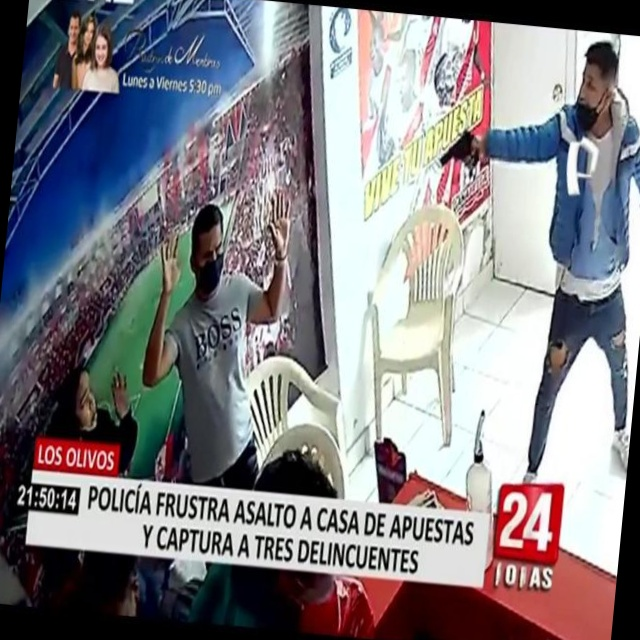gun: (431, 112, 489, 184)
